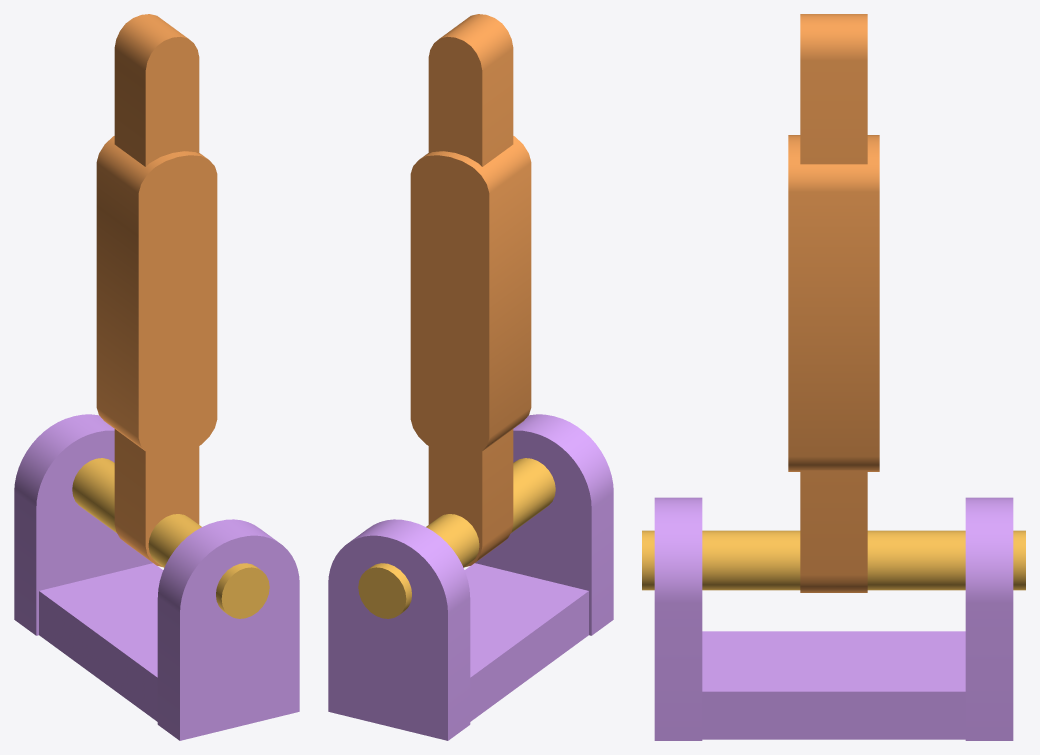
File: Crane A Small.fbx
The picture shows the model from 3 angles, left to right: view 1: azimuth 30°, elevation 25°; view 2: azimuth 150°, elevation 25°; view 3: azimuth 270°, elevation 25°; orthographic projection. The views are drawn at different scales.
Visible parts, largest first — view 1: Crane Small.003, Crane Small, Crane Small.002, Crane Small.001, Crane Small.004; view 2: Crane Small.003, Crane Small.002, Crane Small, Crane Small.001, Crane Small.004; view 3: Crane Small.003, Crane Small.001, Crane Small.004, Crane Small.002, Crane Small.
Boxes of the visible parts, x1,y1,x2,y2 form: Crane Small.003: [96, 14, 217, 566]; Crane Small: [157, 519, 299, 740]; Crane Small.002: [14, 414, 152, 635]; Crane Small.001: [39, 563, 163, 721]; Crane Small.004: [72, 458, 269, 618]; Crane Small.003: [410, 14, 531, 566]; Crane Small.002: [328, 519, 470, 740]; Crane Small: [475, 414, 613, 635]; Crane Small.001: [464, 563, 588, 721]; Crane Small.004: [358, 458, 555, 618]; Crane Small.003: [788, 14, 879, 592]; Crane Small.001: [702, 631, 965, 739]; Crane Small.004: [642, 530, 1025, 590]; Crane Small.002: [965, 497, 1013, 740]; Crane Small: [654, 497, 702, 740].
Bounding box in the file's own units: 53.12 × 271 × 136.
